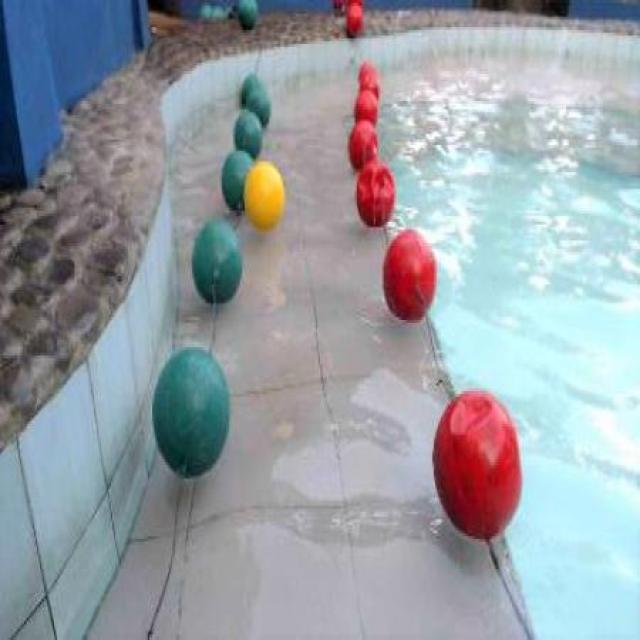buoy: (432, 388, 522, 542), (149, 344, 229, 477), (381, 227, 437, 321), (191, 219, 243, 306), (242, 158, 284, 230), (356, 158, 396, 230), (219, 149, 255, 212), (232, 107, 263, 166), (348, 116, 378, 168), (352, 88, 378, 132), (245, 89, 268, 130), (356, 70, 379, 105), (345, 3, 363, 35), (237, 0, 255, 27)
